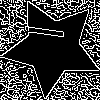I: (27, 22, 74, 43)
